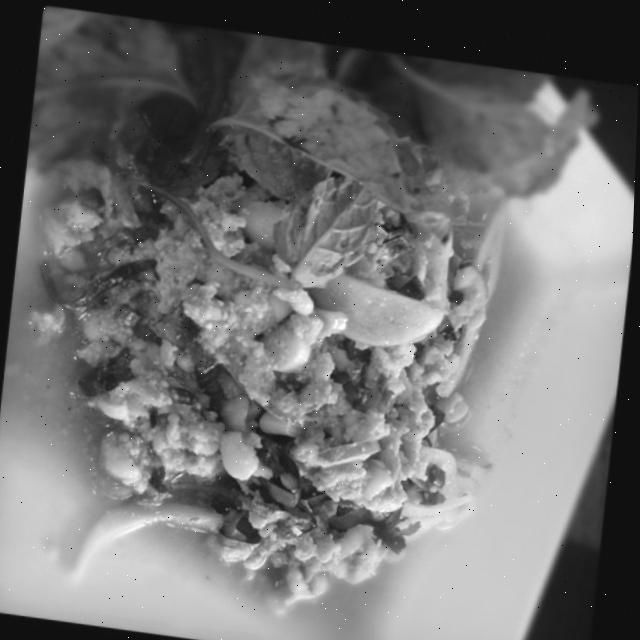鸡肉料理 含炸鸡: (9, 33, 598, 640)
